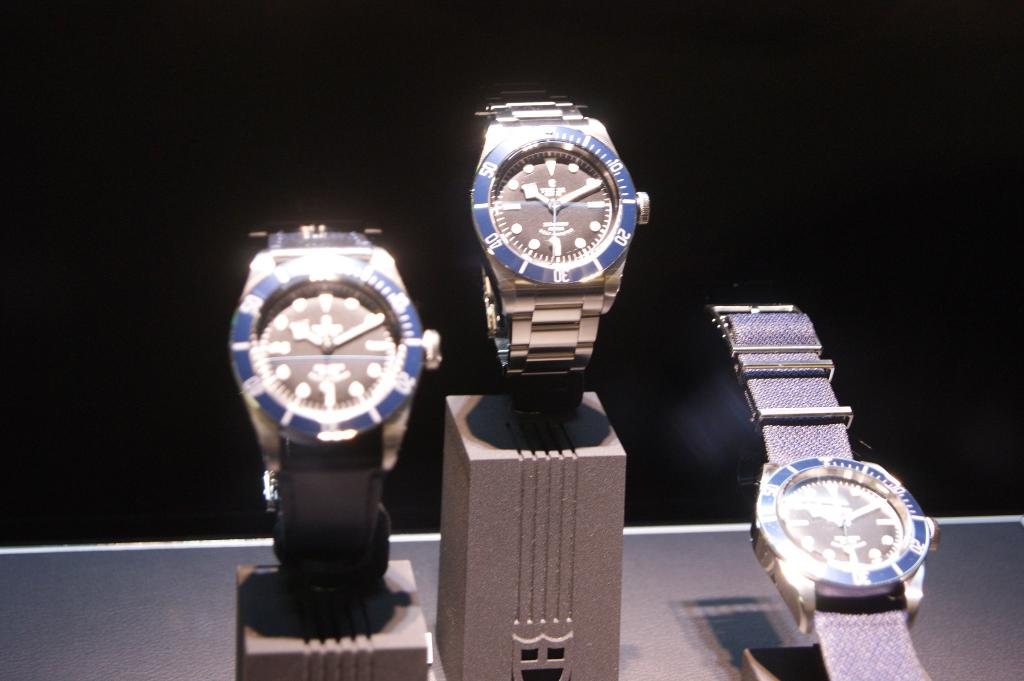watch: (226, 218, 442, 609), (470, 103, 650, 382)
